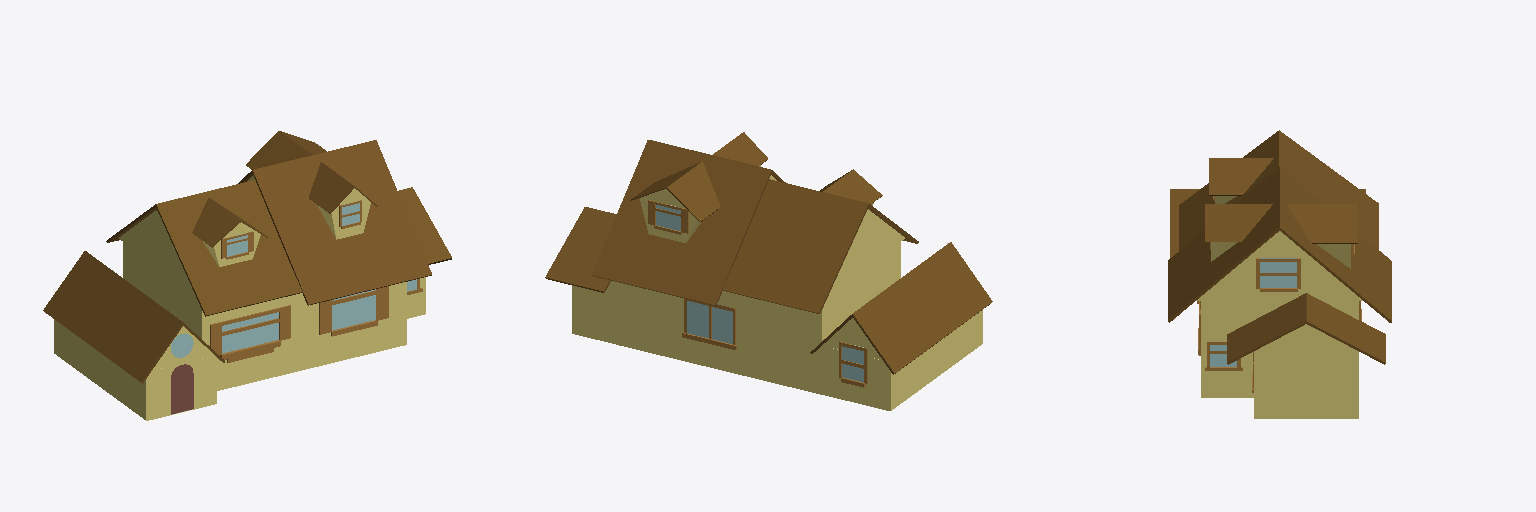
3 renders of one model, left to right at view 1: azimuth 30°, elevation 25°; view 2: azimuth 150°, elevation 25°; view 3: azimuth 270°, elevation 25°, orthographic.
Parts seen in each view (by area): view 1: group51_pasted__group49_pasted__pasted__group40_pasted__pasted__; view 2: group51_pasted__group49_pasted__pasted__group40_pasted__pasted__; view 3: group51_pasted__group49_pasted__pasted__group40_pasted__pasted__.
Part boxes in pixels (x1,y1,x2,y2): group51_pasted__group49_pasted__pasted__group40_pasted__pasted__: (43,131,451,420); group51_pasted__group49_pasted__pasted__group40_pasted__pasted__: (545,132,992,410); group51_pasted__group49_pasted__pasted__group40_pasted__pasted__: (1168,130,1391,418).
Bounding box in the file's own units: 29.72 × 14.56 × 17.04.
8 materials, 7 textured.